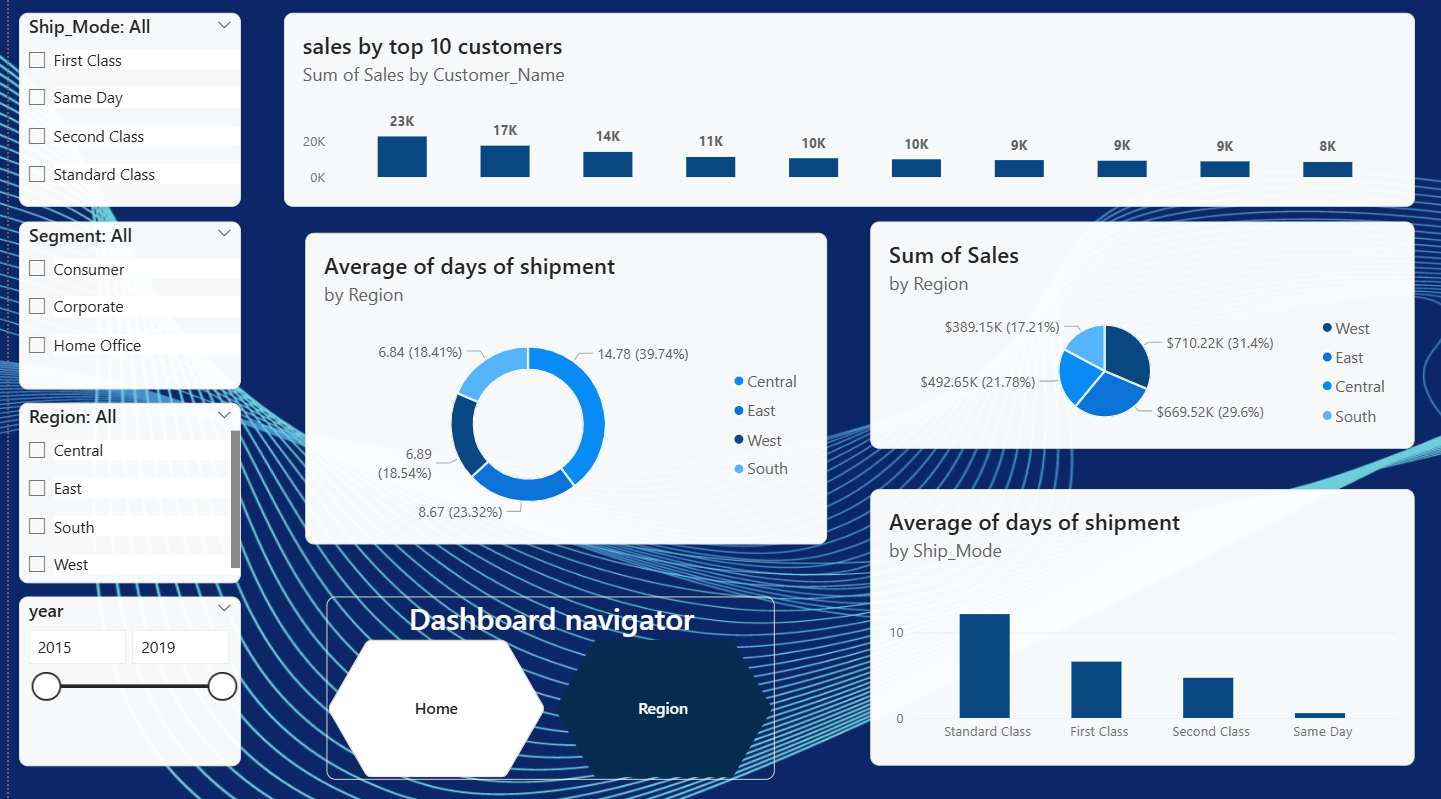

The page's visual inventory and layout, read from the dashboard file:
{"tool":"powerbi","page":{"name":"Region","canvas":[1280,720],"ordinal":1},"visuals":[{"type":"pieChart","fields":{"Category":["superstore_final_dataset (1).Region"],"Y":["Sum(superstore_final_dataset (1).Sales)"]},"box":[767.3,197.9,485,202.7],"z":0},{"type":"slicer","fields":{"Values":["superstore_final_dataset (1).Ship_Mode"]},"box":[8.4,12.1,197.9,172.5],"z":1000},{"type":"slicer","fields":{"Values":["superstore_final_dataset (1).Segment"]},"box":[8.4,197.9,197.9,149.6],"z":2000},{"type":"slicer","fields":{"Values":["superstore_final_dataset (1).Region"]},"box":[8.4,359.5,197.9,160.5],"z":3000},{"type":"slicer","fields":{"Values":["superstore_final_dataset (1).year"]},"box":[8.4,532,197.9,150.8],"z":4000},{"type":"clusteredColumnChart","title":"sales by top 10 customers","fields":{"Category":["Top 10 customers.Customer_Name"],"Y":["Sum(Top 10 customers.Sales)"]},"box":[244.9,12.1,1007.4,172.5],"z":5000},{"type":"clusteredColumnChart","fields":{"Category":["superstore_final_dataset (1).Ship_Mode"],"Y":["Avg(superstore_final_dataset (1).days of shipment)"]},"box":[767.3,436.7,485,246.1],"z":6000},{"type":"pageNavigator","title":"Dashboard navigator","box":[282.3,532,399.3,162.9],"z":7000},{"type":"donutChart","fields":{"Y":["Avg(superstore_final_dataset (1).days of shipment)"],"Category":["superstore_final_dataset (1).Region"]},"box":[264.2,208.7,464.5,277.5],"z":8000}]}

Visuals, with their boxes in screenshot pixels (x1, y1, x2, y2), scaled from the page's 1280x720 canvas onto the 1441x799 screenshot:
pieChart - superstore_final_dataset (1).Region x Sum(superstore_final_dataset (1).Sales): Rect(864, 220, 1410, 445)
slicer - superstore_final_dataset (1).Ship_Mode: Rect(9, 13, 232, 205)
slicer - superstore_final_dataset (1).Segment: Rect(9, 220, 232, 386)
slicer - superstore_final_dataset (1).Region: Rect(9, 399, 232, 577)
slicer - superstore_final_dataset (1).year: Rect(9, 590, 232, 758)
"sales by top 10 customers" clusteredColumnChart: Rect(276, 13, 1410, 205)
clusteredColumnChart - superstore_final_dataset (1).Ship_Mode x Avg(superstore_final_dataset (1).days of shipment): Rect(864, 485, 1410, 758)
"Dashboard navigator" pageNavigator: Rect(318, 590, 767, 771)
donutChart - Avg(superstore_final_dataset (1).days of shipment) x superstore_final_dataset (1).Region: Rect(297, 232, 820, 540)
